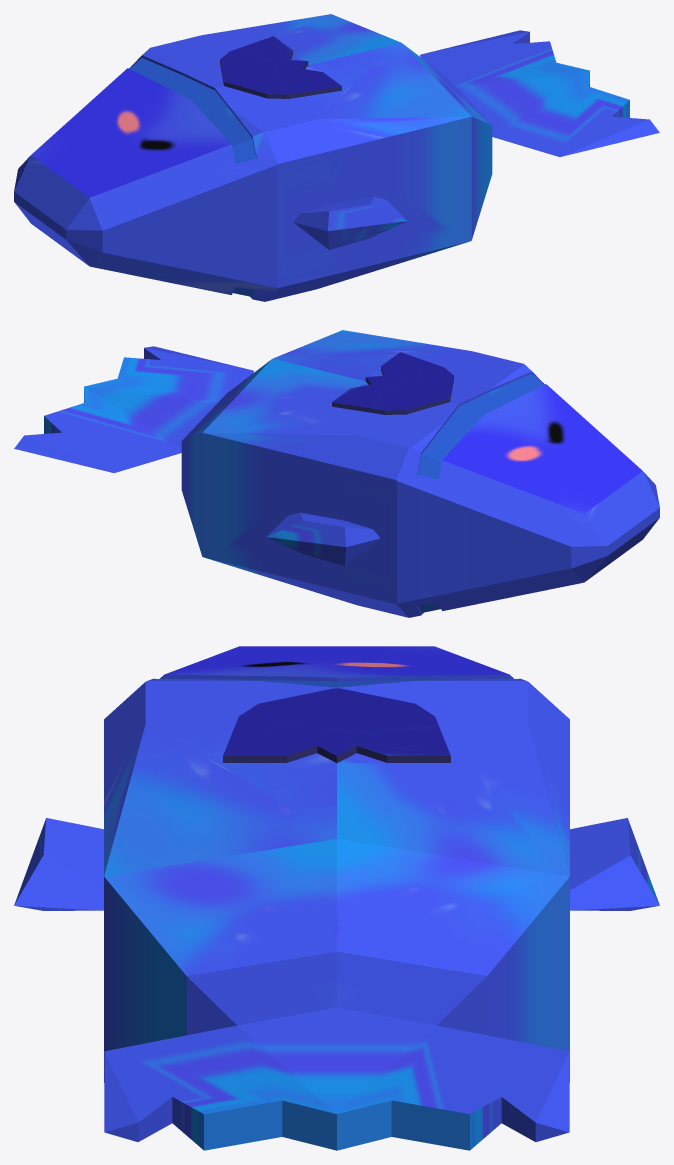
File: Final Fish Model.fbx
3 renders of one model, top to bottom at view 1: azimuth 30°, elevation 25°; view 2: azimuth 150°, elevation 25°; view 3: azimuth 270°, elevation 25°, orthographic. The views are drawn at different scales.
Visible parts, largest first — view 1: Cube; view 2: Cube; view 3: Cube.
Part boxes in pixels (box(x1,y1,x2,y2)): Cube: box(14, 14, 659, 301); Cube: box(14, 330, 659, 617); Cube: box(14, 646, 659, 1150).
Size of the model in its own units: 113 by 35.09 by 69.34.
Materials: 1 (1 with a texture image).
